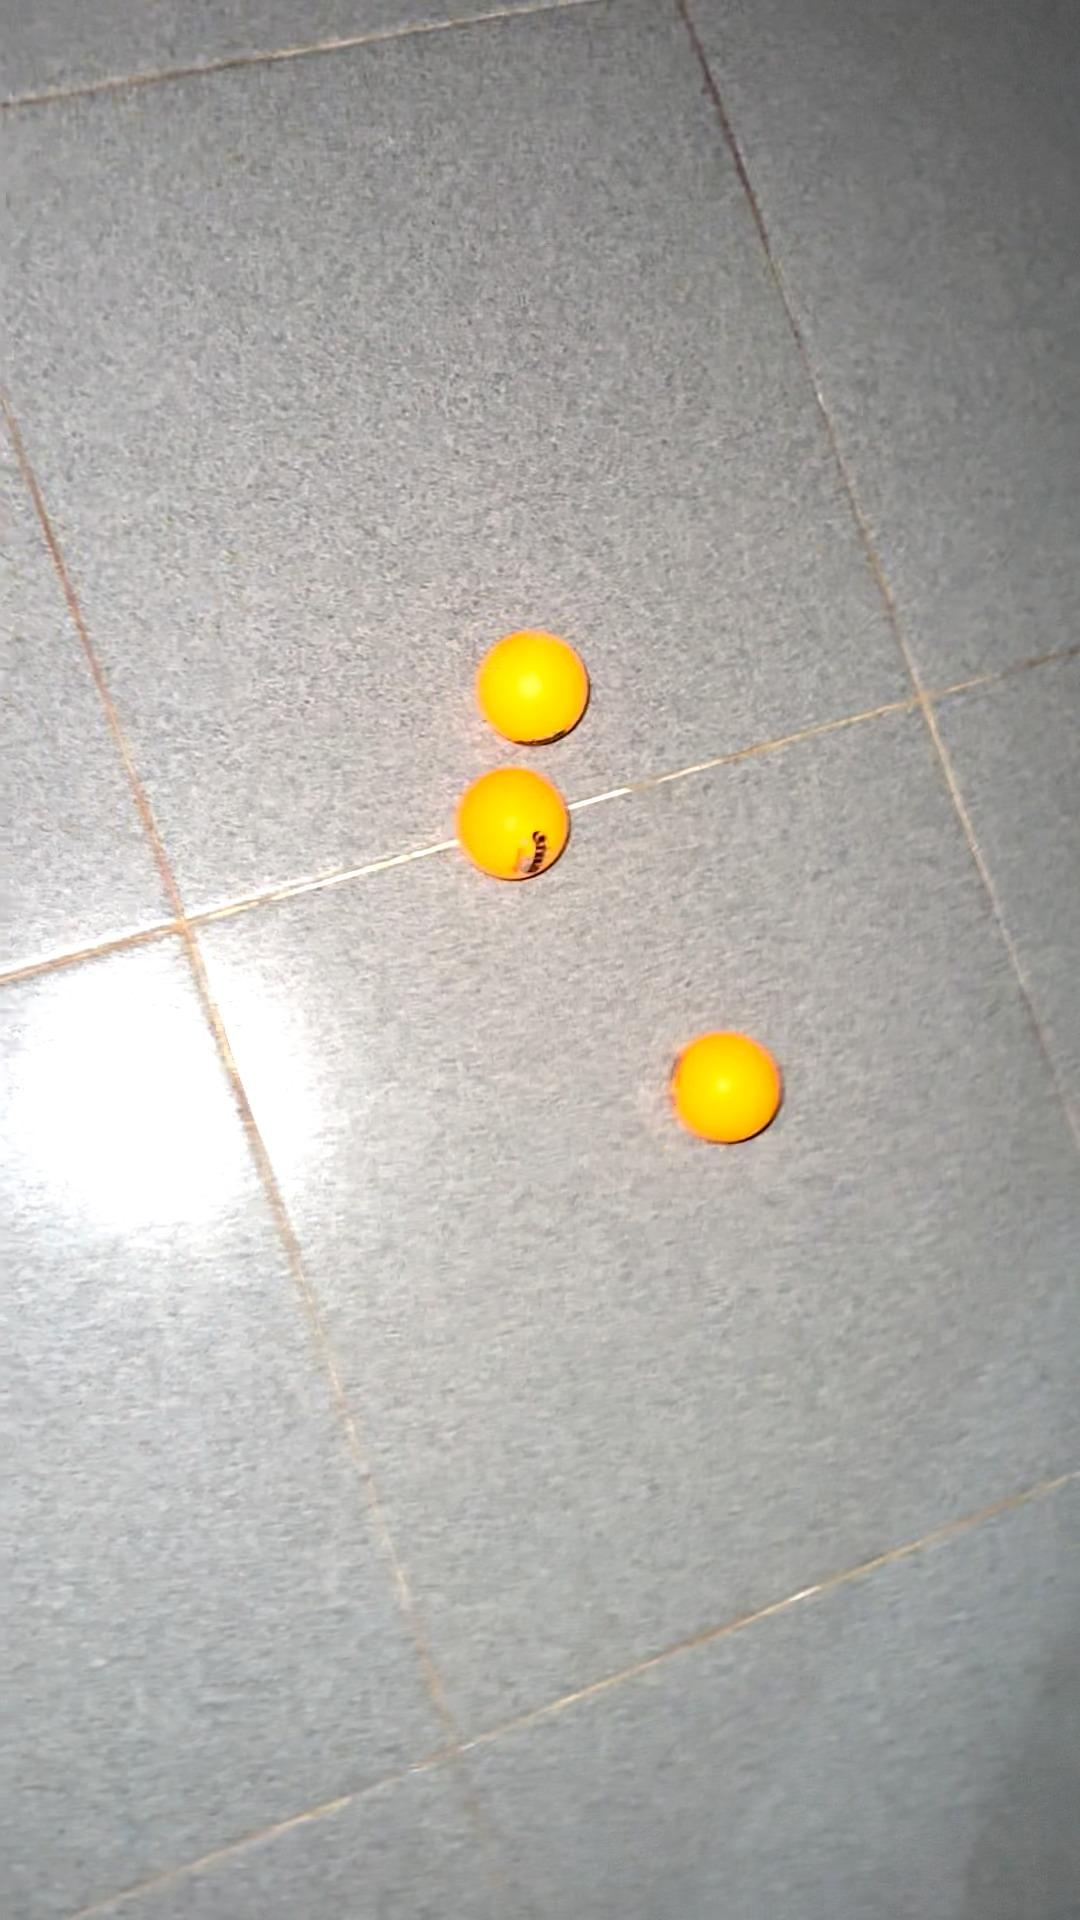oball: (665, 1018, 806, 1164), (468, 625, 611, 753), (451, 752, 578, 893)
